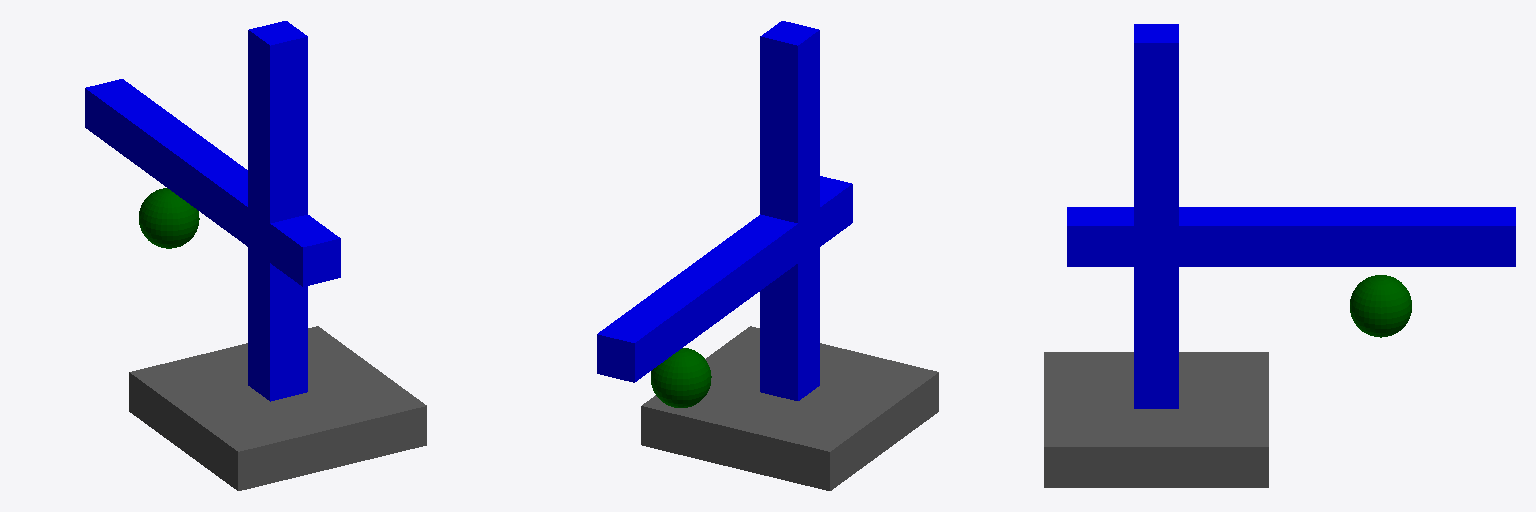
robot.urdf — origins:
<?xml version="1.0"?>
<robot name="origins">


    <material name="blue">
        <color rgba="0.0 0.0 1 0.3"/>
    </material>
    <material name="green">
        <color rgba="0.0 0.4 0 0.5"/>
    </material>

    <link name="base">
        <inertial>
            <mass value="1."/>
        </inertial>
        <visual>
            <origin xyz="0 0 0.05"/>
            <geometry>
                <box size="0.5 0.5 0.1"/>
            </geometry>
            <material name="base_color">
                <color rgba="0.4 0.4 0.4 1.0"/>
            </material>
        </visual>
        <collision>
            <origin xyz="0 0 0.05"/>
            <geometry>
                <box size="0.5 0.5 0.1"/>
            </geometry>
        </collision>
    </link>

    <link name="tower">
        <inertial>
            <mass value="1."/>
        </inertial>
        <visual>
            <geometry>
                <box size="0.1 0.1 1.0"/>
            </geometry>
            <material name="blue"/>
        </visual>
        <collision>
            <geometry>
                <box size="0.1 0.1 1.0"/>
            </geometry>
        </collision>
    </link>

    <joint name="rz" type="revolute">
        <parent link="base"/>
        <child link="tower"/>
        <origin xyz="0 0 0.5" rpy="0 0 1.5708"/>
        <axis xyz="0 0 1"/>
    </joint>

    <link name="jib">
        <inertial>
            <mass value="1.0"/>
        </inertial>
        <visual>
            <geometry>
                <box size="1.0 0.1 0.1"/>
            </geometry>
            <material name="blue"/>
        </visual>
        <collision>
            <geometry>
                <box size="1.0 0.1 0.1"/>
            </geometry>
        </collision>
    </link>

    <joint name="tz" type="prismatic">
        <parent link="tower"/>
        <child link="jib"/>
        <origin xyz="0.3 0 0." rpy="0 0 0"/>
        <axis xyz="0 0 1"/>
    </joint>

    <link name="trolley">
        <inertial>
            <mass value="1.0"/>
        </inertial>
        <visual>
            <origin xyz="0 0 -0.17"/>
            <geometry>
                <sphere radius="0.07"/>
            </geometry>
            <material name="green"/>
        </visual>
        <collision>
            <origin xyz="0 0 -0.17"/>
            <geometry>
                <box size="0.15 0.15 0.2"/>
            </geometry>
        </collision>
    </link>

    <joint name="ty" type="prismatic">
        <parent link="jib"/>
        <child link="trolley"/>
        <origin xyz="0.2 0 0." rpy="0 0 0"/>
        <axis xyz="1 0 0"/>
    </joint>
</robot>

--- Facts derived from the render (not from the file) ---
Views: 3 orthographic renders of the robot side by side, from view 1: azimuth 30°, elevation 25°; view 2: azimuth 150°, elevation 25°; view 3: azimuth 270°, elevation 25°.
Model origins with 4 links and 3 joints (1 revolute, 2 prismatic), rooted at base, posed every joint at zero.
Visible links, largest first — view 1: base, tower, jib, trolley; view 2: base, tower, jib, trolley; view 3: base, jib, tower, trolley.
Boxes of the visible links, box(x1,y1,x2,y2) form: base: box(129, 326, 426, 490); tower: box(248, 21, 307, 401); jib: box(85, 79, 340, 286); trolley: box(139, 188, 199, 248); base: box(641, 326, 938, 490); tower: box(760, 21, 819, 400); jib: box(597, 176, 852, 382); trolley: box(651, 348, 711, 407); base: box(1044, 352, 1268, 487); jib: box(1067, 207, 1515, 266); tower: box(1134, 24, 1178, 408); trolley: box(1350, 275, 1411, 337).
Size in the robot's own frame: 0.5 by 1.05 by 1 metres.
Geometry: primitives only (box / cylinder / sphere), no mesh files.